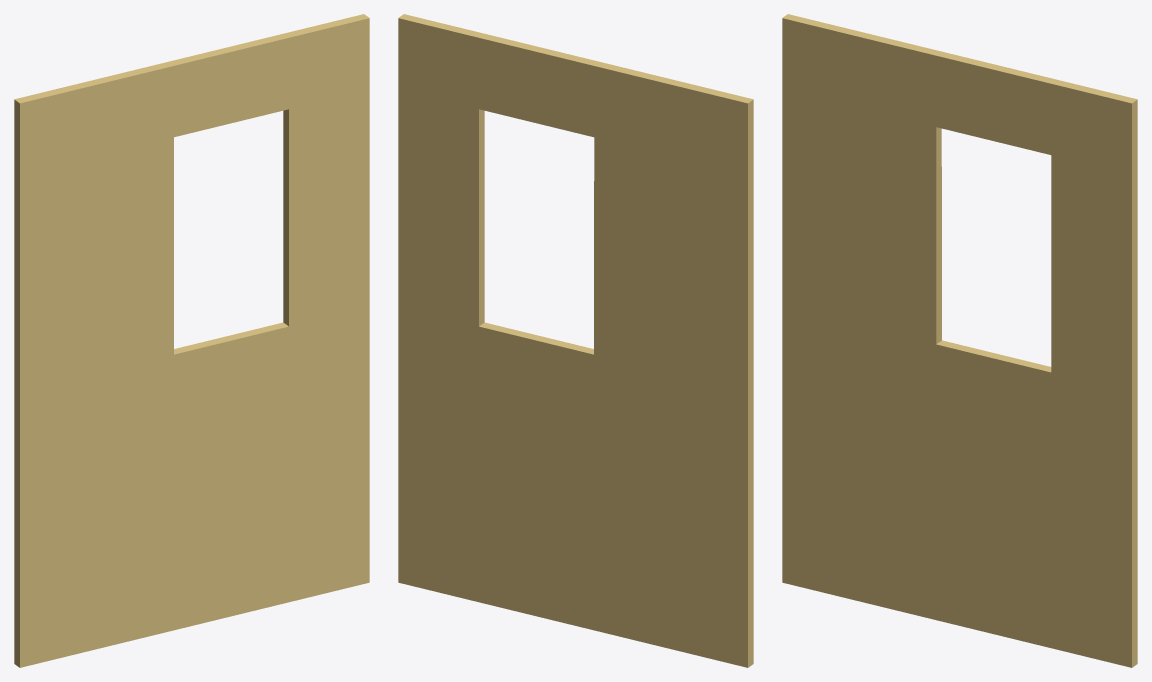
File: SP_House06_SideWall01.fbx
3 views of the same model, side by side, from view 1: azimuth 30°, elevation 25°; view 2: azimuth 150°, elevation 25°; view 3: azimuth 330°, elevation 25° (orthographic).
Visible parts, largest first — view 1: SP_House06_SideWall01; view 2: SP_House06_SideWall01; view 3: SP_House06_SideWall01.
Boxes of the visible parts, x1,y1,x2,y2 form: SP_House06_SideWall01: (14, 14, 369, 667); SP_House06_SideWall01: (398, 14, 753, 667); SP_House06_SideWall01: (782, 14, 1137, 667).
Bounding box in the file's own units: 7.12 × 10.98 × 0.1989.
